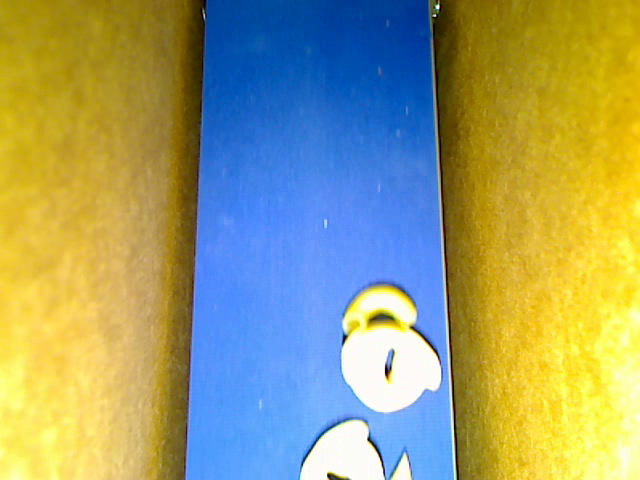elbow: (341, 284, 418, 335)
penne: (389, 449, 412, 479)
tortellini: (341, 324, 442, 411), (298, 417, 387, 479)
